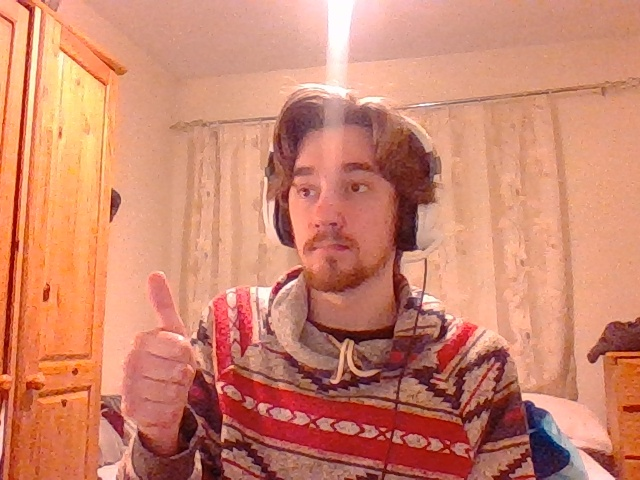good: (118, 271, 195, 438)
